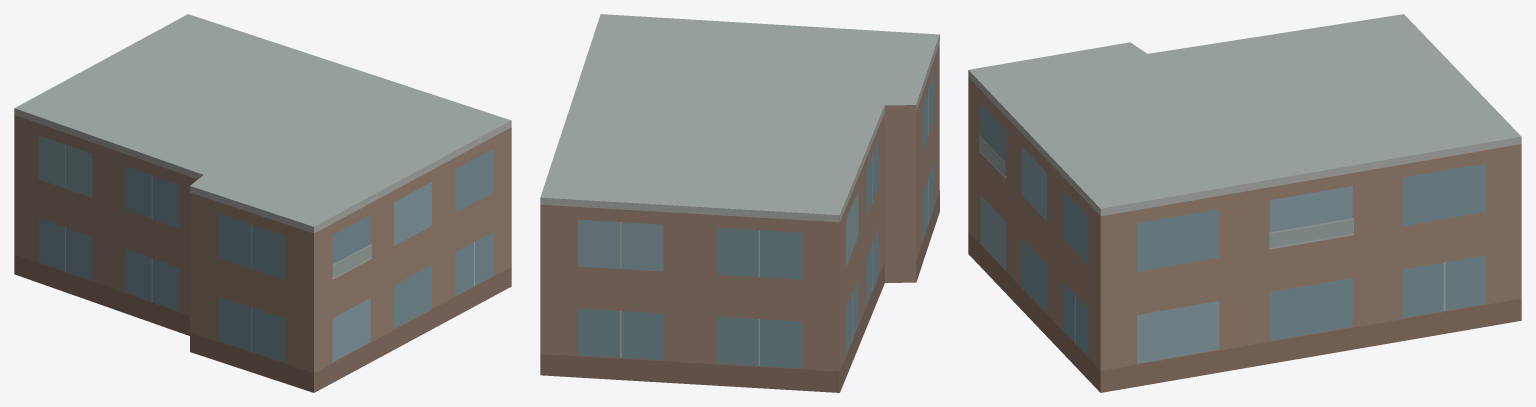
File: survey-upis-32848837.glb
3 views of the same model, side by side, from view 1: azimuth 30°, elevation 25°; view 2: azimuth 150°, elevation 25°; view 3: azimuth 270°, elevation 25° (orthographic). The views are drawn at different scales.
Parts seen in each view (by area): view 1: survey-upis-32848837.tmp; view 2: survey-upis-32848837.tmp; view 3: survey-upis-32848837.tmp.
Part boxes in pixels (left/top/right/bottom): survey-upis-32848837.tmp: left=14, top=14, right=511, bottom=392; survey-upis-32848837.tmp: left=540, top=14, right=939, bottom=392; survey-upis-32848837.tmp: left=968, top=14, right=1521, bottom=392.
Bounding box in the file's own units: 13.87 × 6.1 × 16.64.
